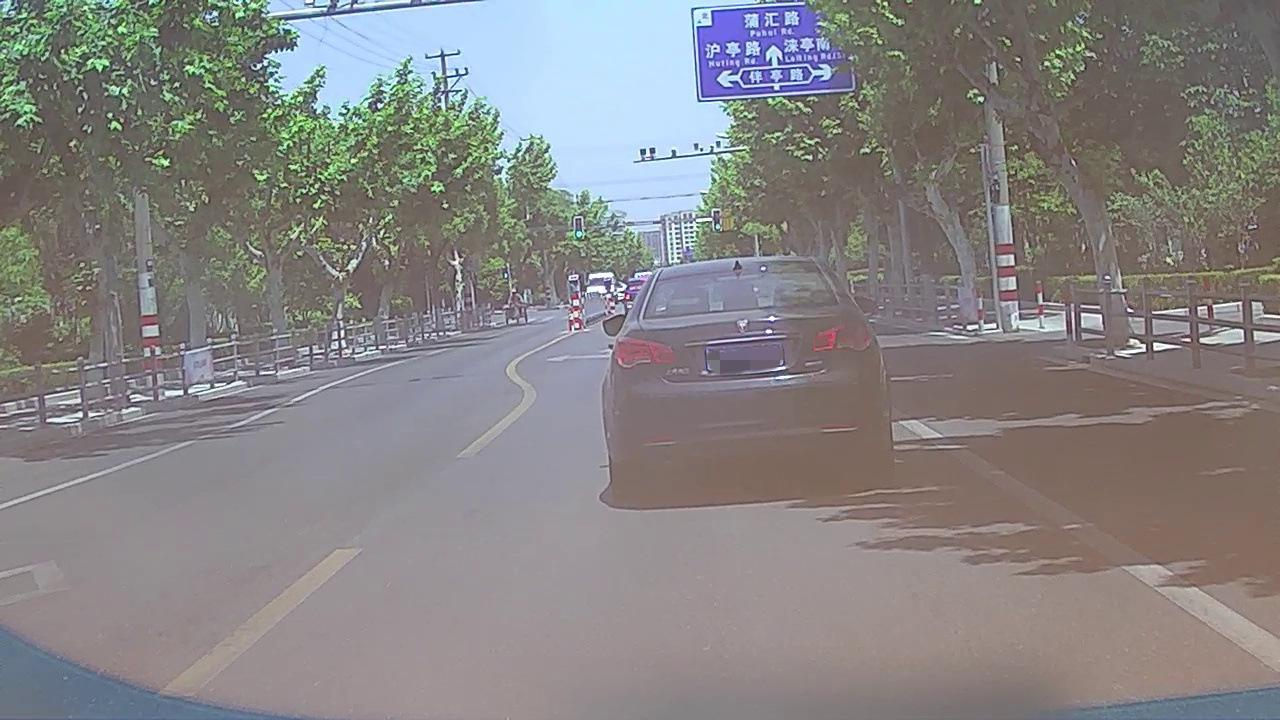traffic_light: (575, 218, 583, 239), (713, 210, 721, 230)
